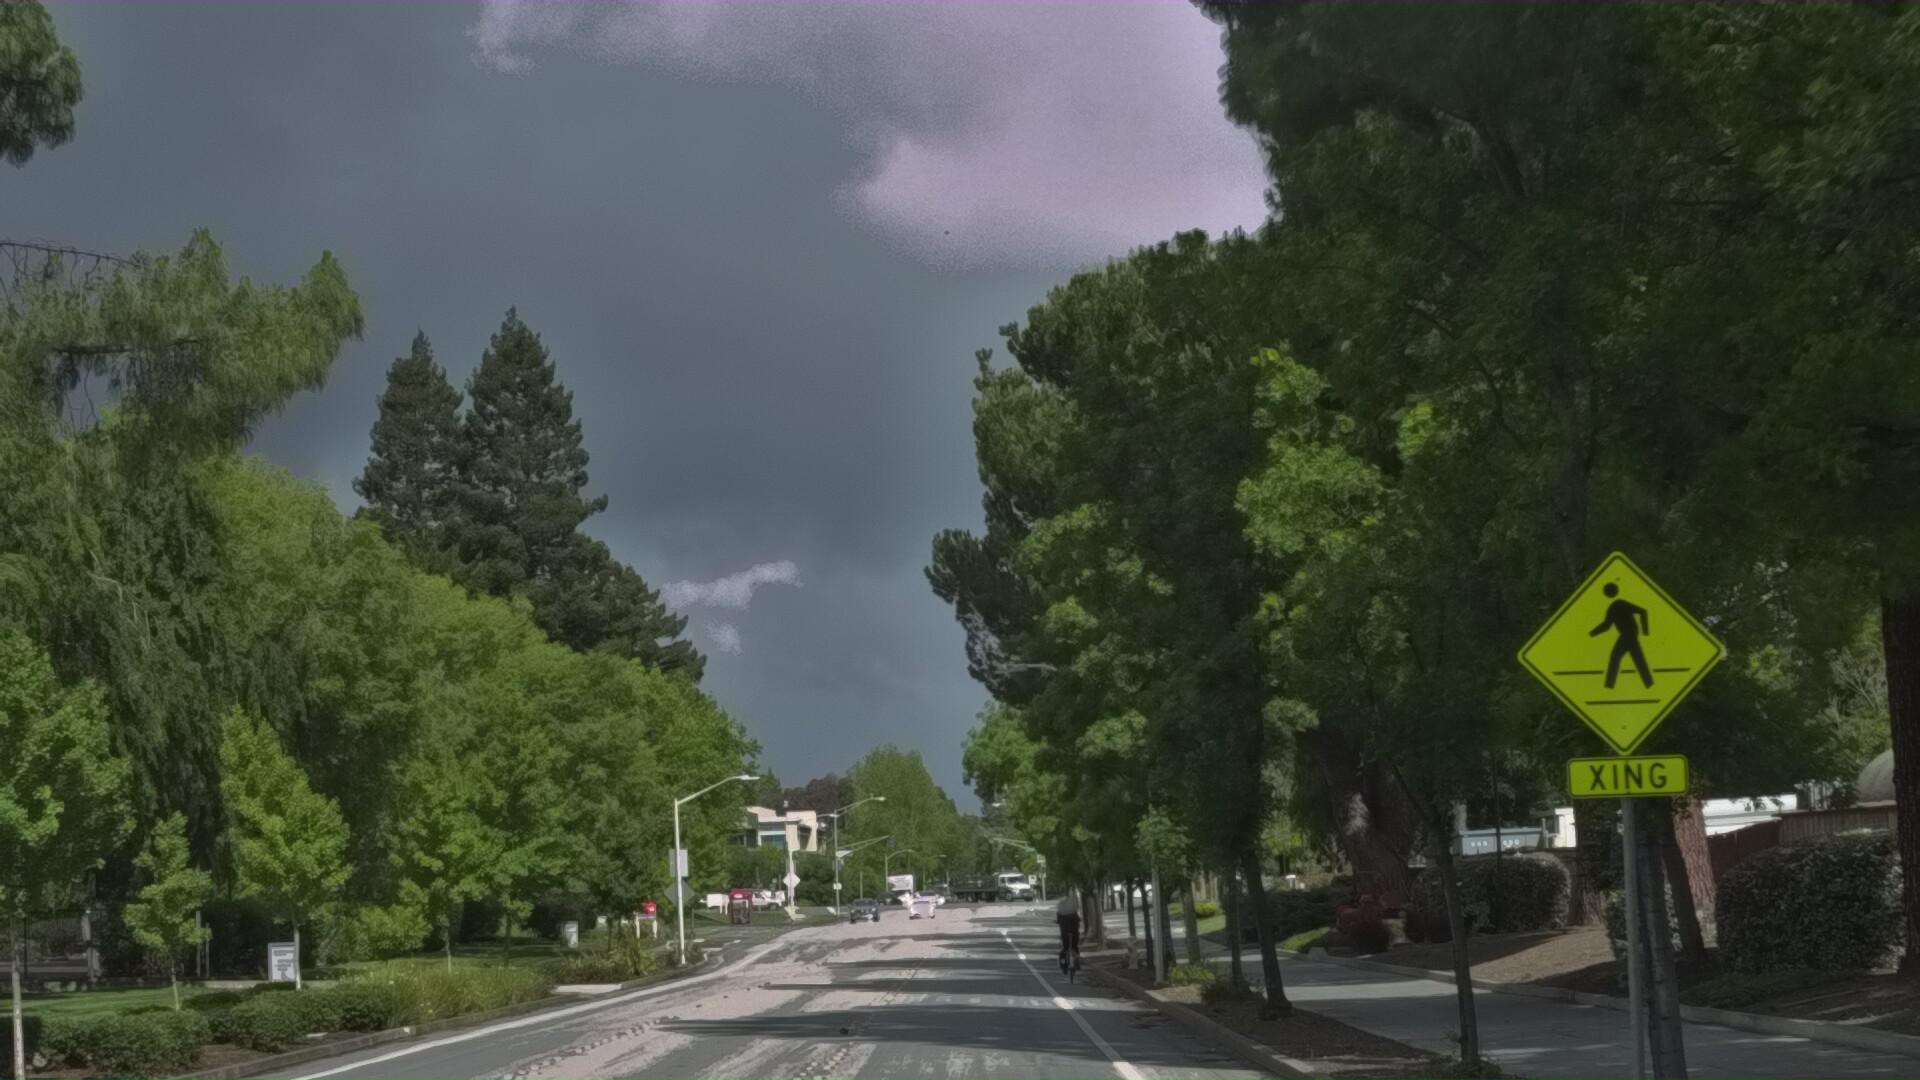bicycle: (1040, 994, 1093, 1080)
